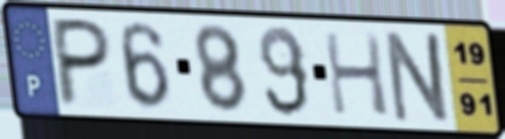6: (116, 18, 175, 114)
8: (191, 20, 250, 118)
9: (256, 23, 313, 120)
H: (320, 29, 393, 119)
N: (383, 28, 455, 127)
P: (52, 14, 115, 110)
